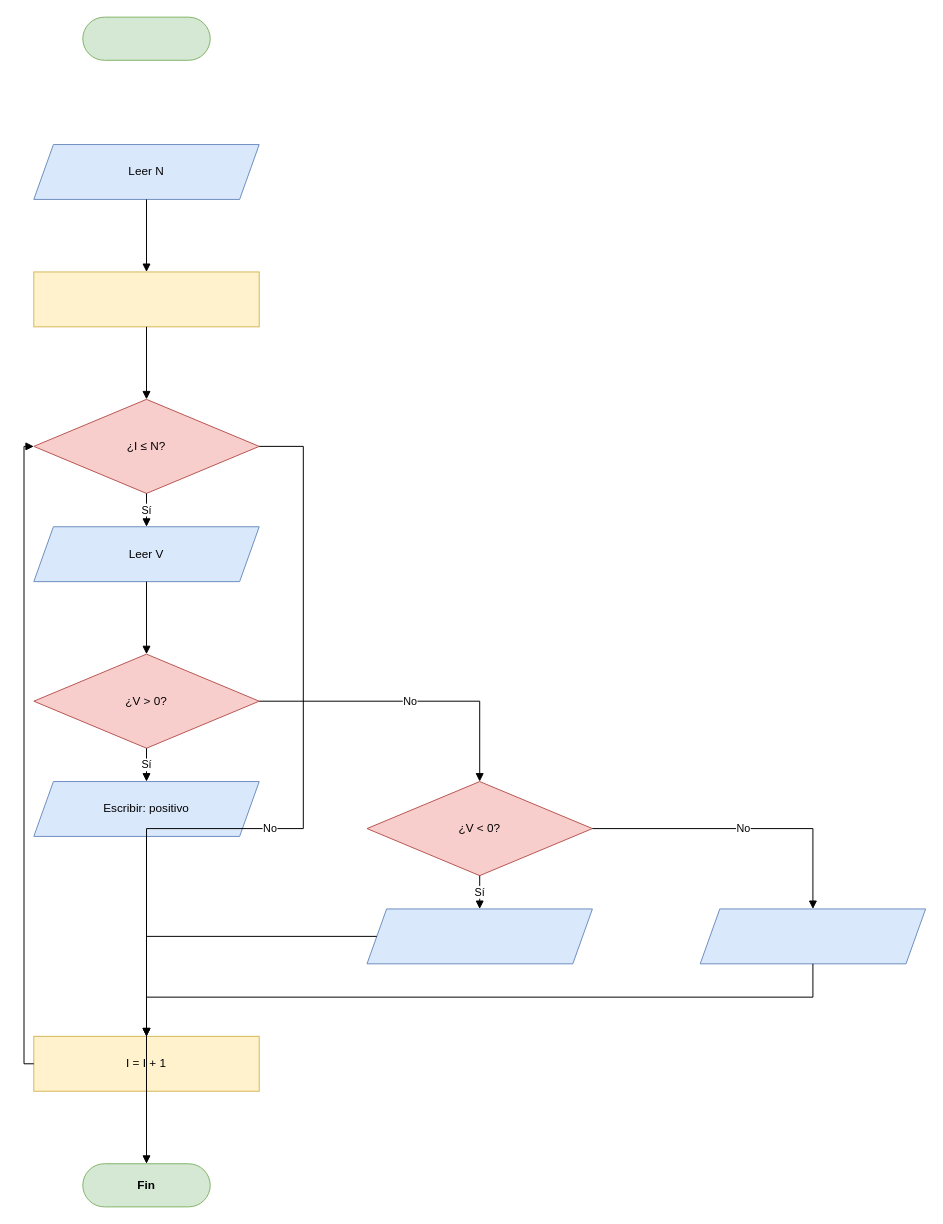
This 943x1224 diagram has some shape labels left out. Here are the shapes that lost their labels. From the top down, the box of each, then its label:
(82, 16, 210, 60): Inicio
(33, 271, 259, 327): I = 1
(366, 908, 592, 964): Escribir: negativo
(699, 908, 926, 964): Escribir: es cero
